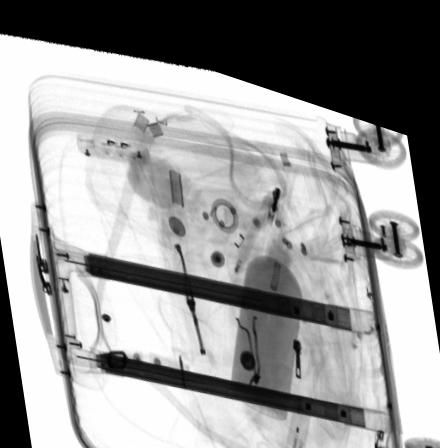Lighter: (283, 383, 312, 448)
